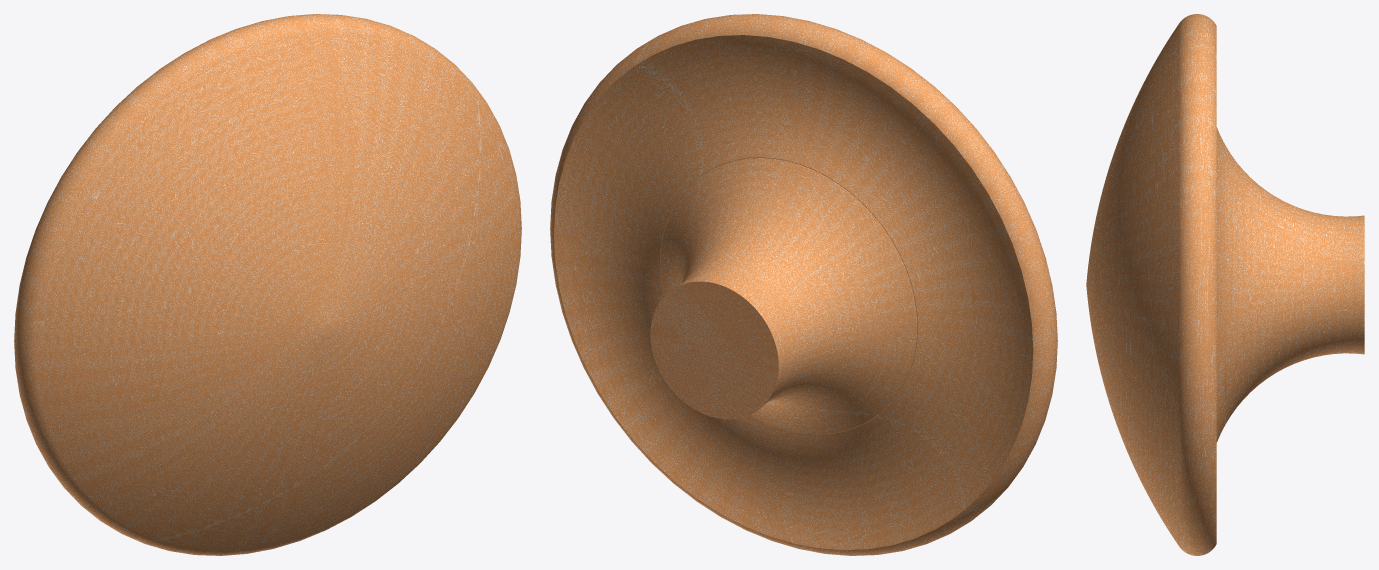
Rendered from original-42.obj.
The picture shows the model from 3 angles, left to right: view 1: azimuth 30°, elevation 25°; view 2: azimuth 150°, elevation 25°; view 3: azimuth 270°, elevation 25°; orthographic projection. The views are drawn at different scales.
Visible parts, largest first — view 1: Stickley_Knob_2_2/Stickley_Knob_2/Stickley_Knob_1_1/Stickley_Kno; view 2: Stickley_Knob_2_2/Stickley_Knob_2/Stickley_Knob_1_1/Stickley_Kno; view 3: Stickley_Knob_2_2/Stickley_Knob_2/Stickley_Knob_1_1/Stickley_Kno.
Part boxes in pixels (<box>): Stickley_Knob_2_2/Stickley_Knob_2/Stickley_Knob_1_1/Stickley_Kno: <box>14,14,521,555</box>; Stickley_Knob_2_2/Stickley_Knob_2/Stickley_Knob_1_1/Stickley_Kno: <box>550,14,1057,555</box>; Stickley_Knob_2_2/Stickley_Knob_2/Stickley_Knob_1_1/Stickley_Kno: <box>1086,14,1364,555</box>.
Size of the model in its own units: 0.0383 by 0.0383 by 0.0197.
